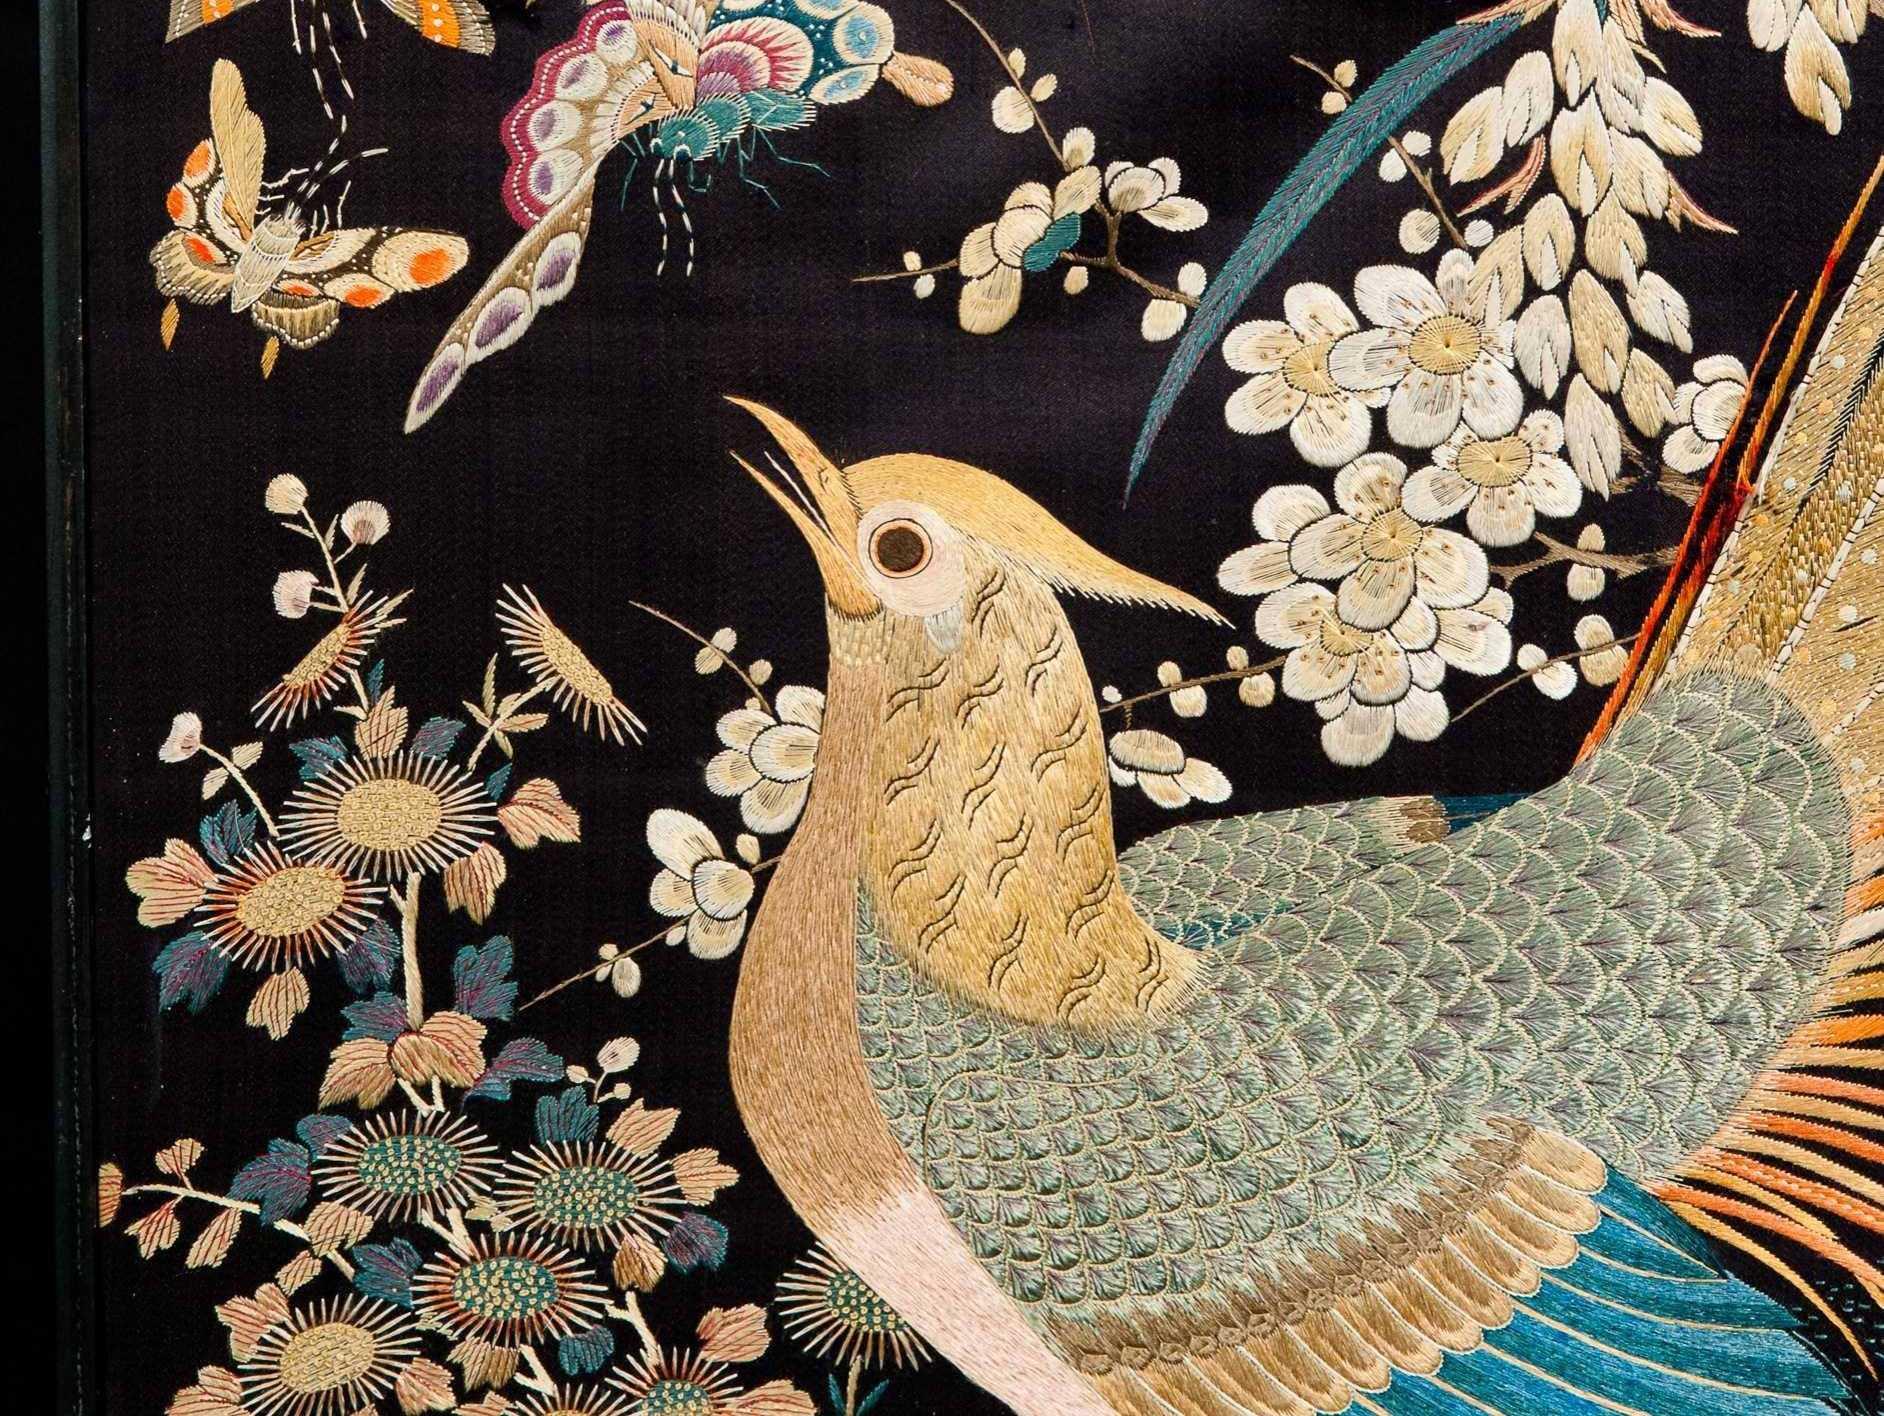bird: (665, 150, 1884, 1394)
flower: (1216, 454, 1512, 765), (1329, 251, 1529, 443), (1222, 251, 1386, 472), (1401, 409, 1584, 544), (702, 684, 827, 831), (645, 805, 749, 961)
